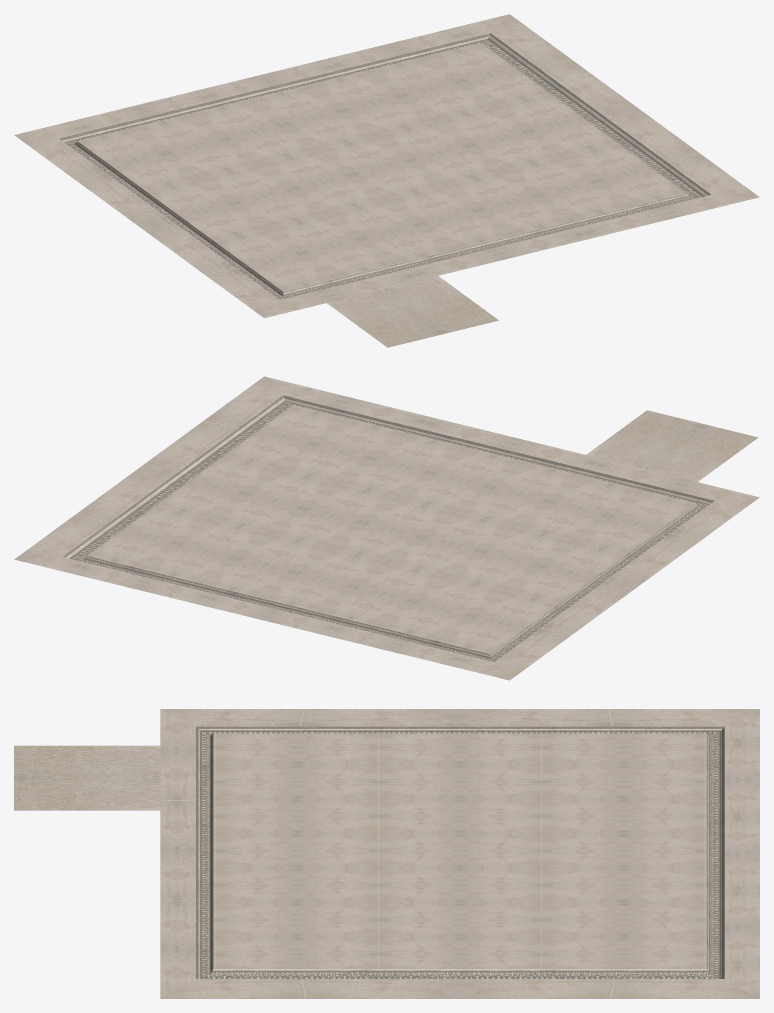
Rendered from Privy_Ceiling.fbx.
3 views of the same model, one above another, from view 1: azimuth 30°, elevation 25°; view 2: azimuth 150°, elevation 25°; view 3: azimuth 270°, elevation 25° (orthographic). The views are drawn at different scales.
Parts seen in each view (by area): view 1: Bathroomfloor1.001; view 2: Bathroomfloor1.001; view 3: Bathroomfloor1.001.
Boxes of the visible parts, x1,y1,x2,y2 form: Bathroomfloor1.001: (14, 14, 759, 347); Bathroomfloor1.001: (14, 376, 759, 680); Bathroomfloor1.001: (14, 709, 759, 998).
Size of the model in its own units: 864 by 5.64 by 940.
